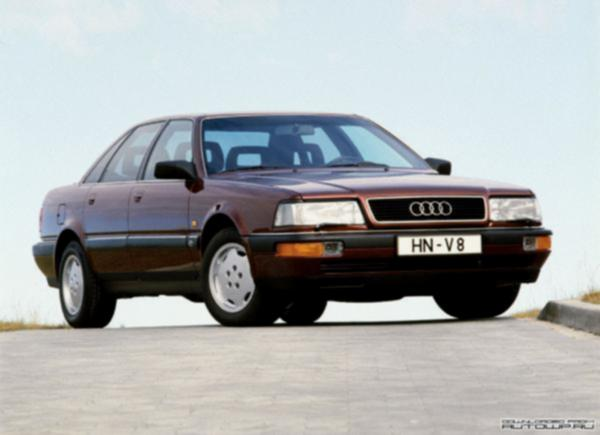Audi: (404, 194, 461, 221)
